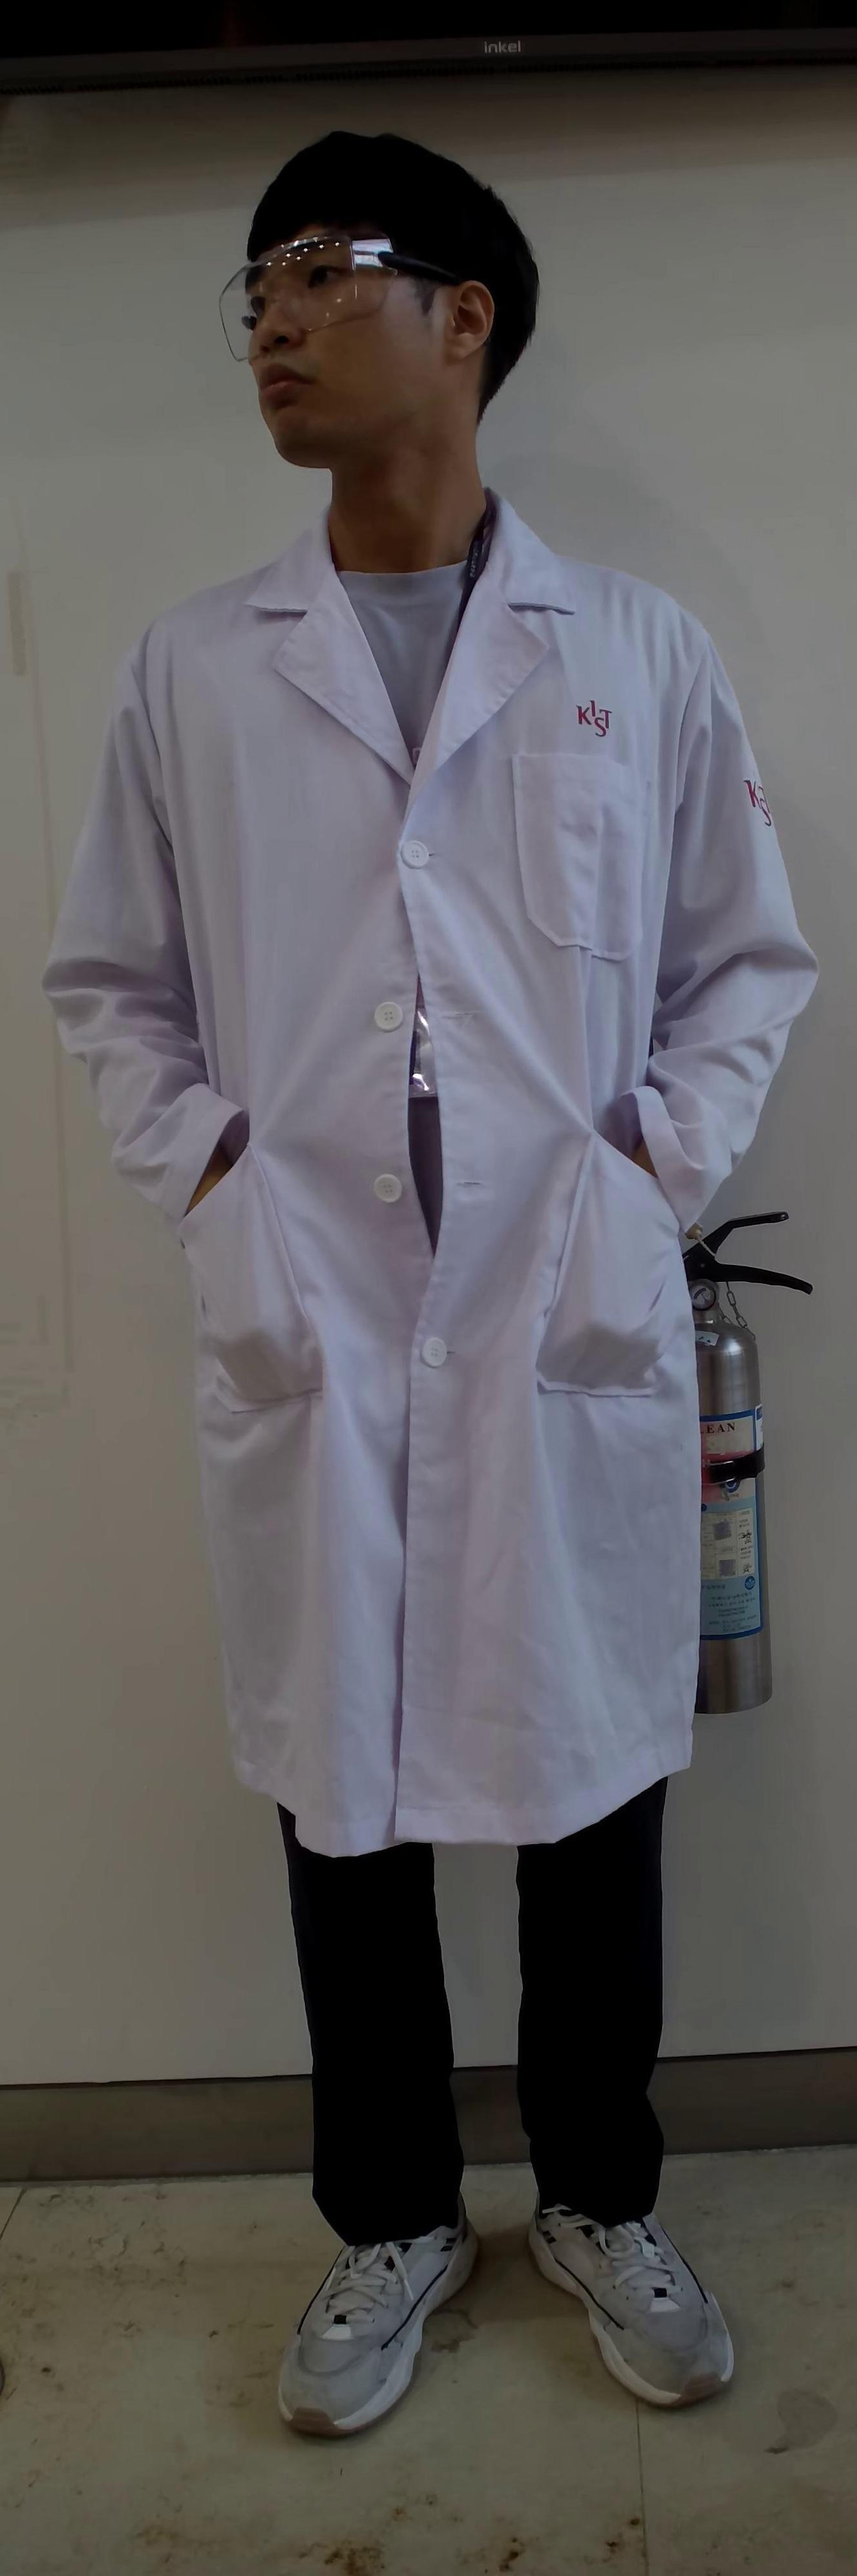lab_coat: (21, 616, 714, 1810)
